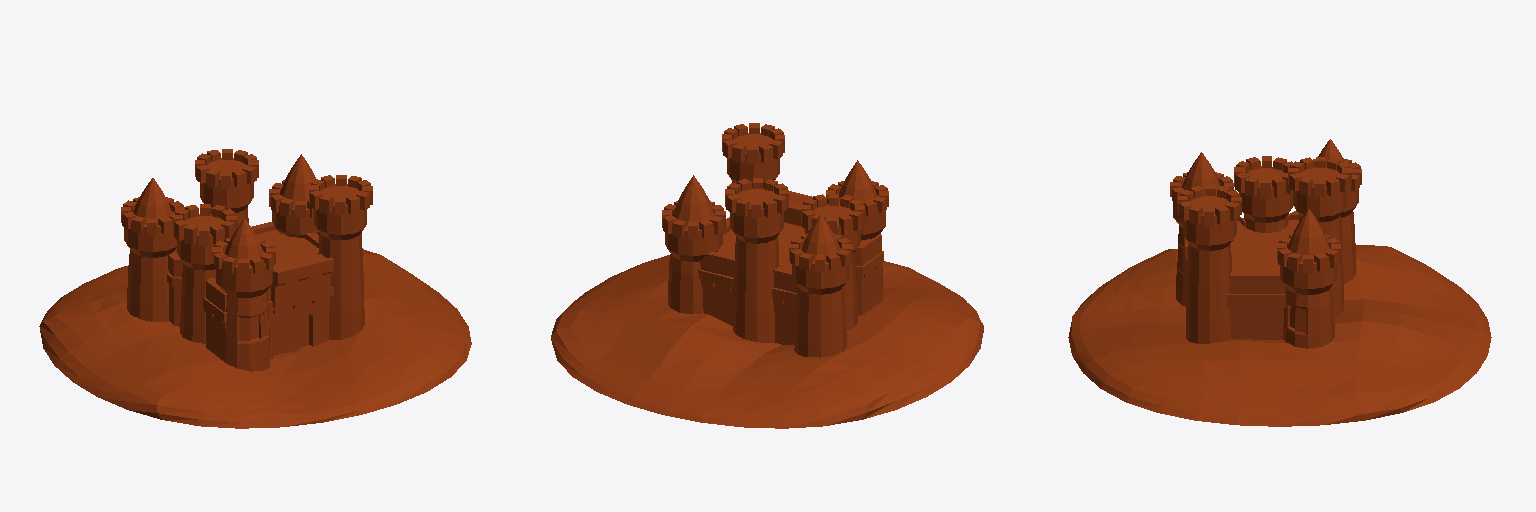
Rendered from sandCastle.obj.
3 renders of one model, left to right at view 1: azimuth 30°, elevation 25°; view 2: azimuth 150°, elevation 25°; view 3: azimuth 270°, elevation 25°, orthographic.
Bounding box in the file's own units: 41.18 × 17.52 × 41.18.